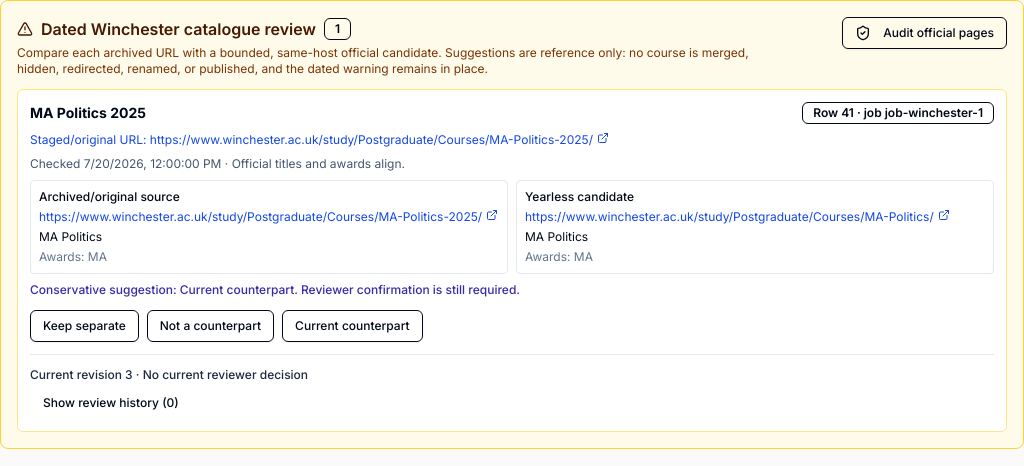
Test: DatedCatalogueReview › reloads durable evidence and saves an exact-row optimistic decision
Expected: the text with test id "text-source-title-41-Archived/original source" is shown, [39, 229, 102, 244]
Expected: the text "Suggestions are reference only" is shown, [17, 45, 749, 76]
Click the button with test id "button-decision-keep_separate-41" at (84, 326), box [30, 310, 139, 342]
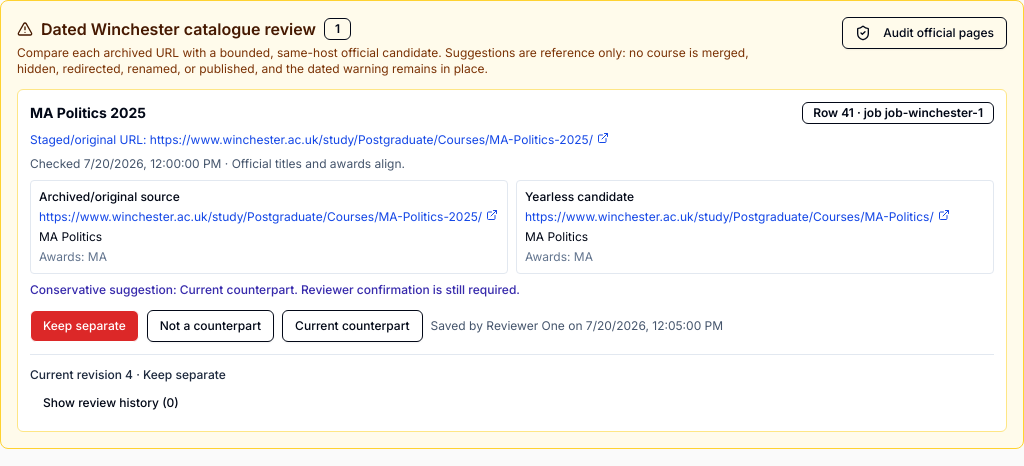
Result: the text "Saved by Reviewer One on 7/20/2026, 12:05:00 PM" is shown at [431, 318, 723, 334]
